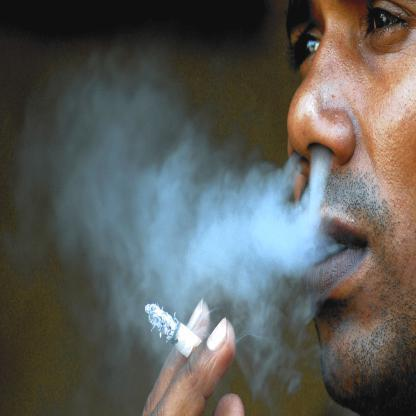cigarette: (144, 299, 199, 359)
person: (274, 0, 415, 415)
smoke: (81, 129, 295, 338)
